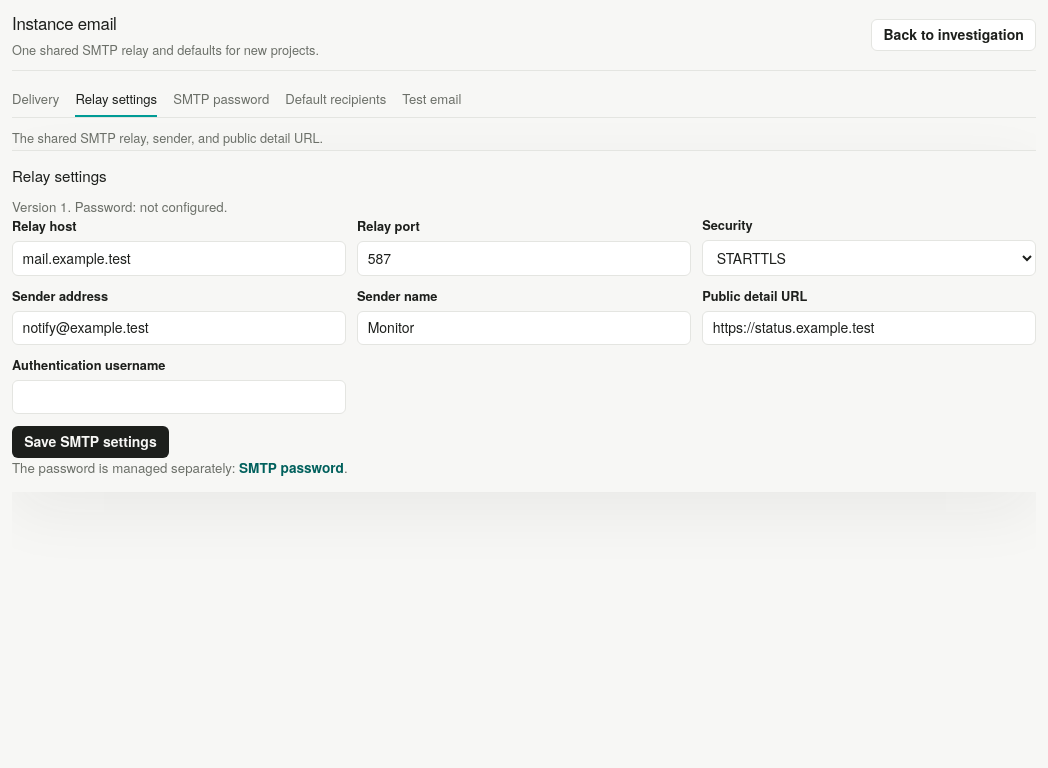
Test: email and maintenance administration › refreshes the settings version and keeps a conflict visible
This screenshot has width=1048, height=768.
Expected: the text "Version 1." is shown, [12,197,227,216]
Step 1. Click the button "Save SMTP settings" → (90, 442), box [12,426,169,458]
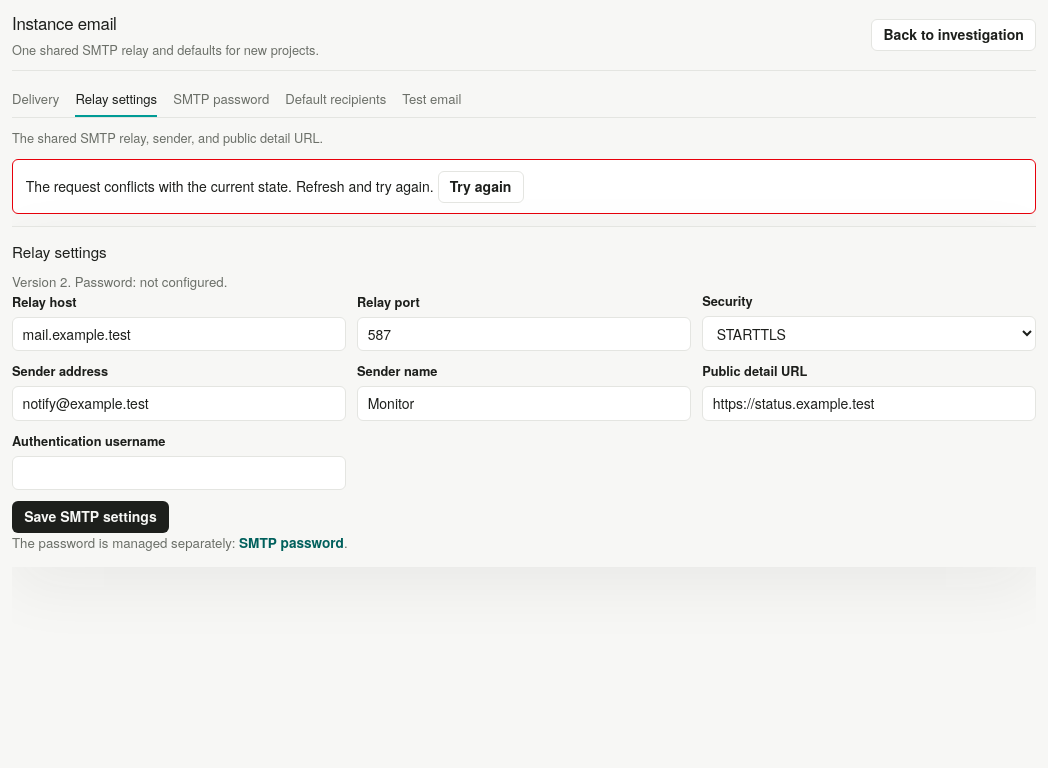
Expected: the message shows "Refresh and try again", [26,176,434,196]
Expected: the text "Version 2." is shown, [12,272,227,291]
